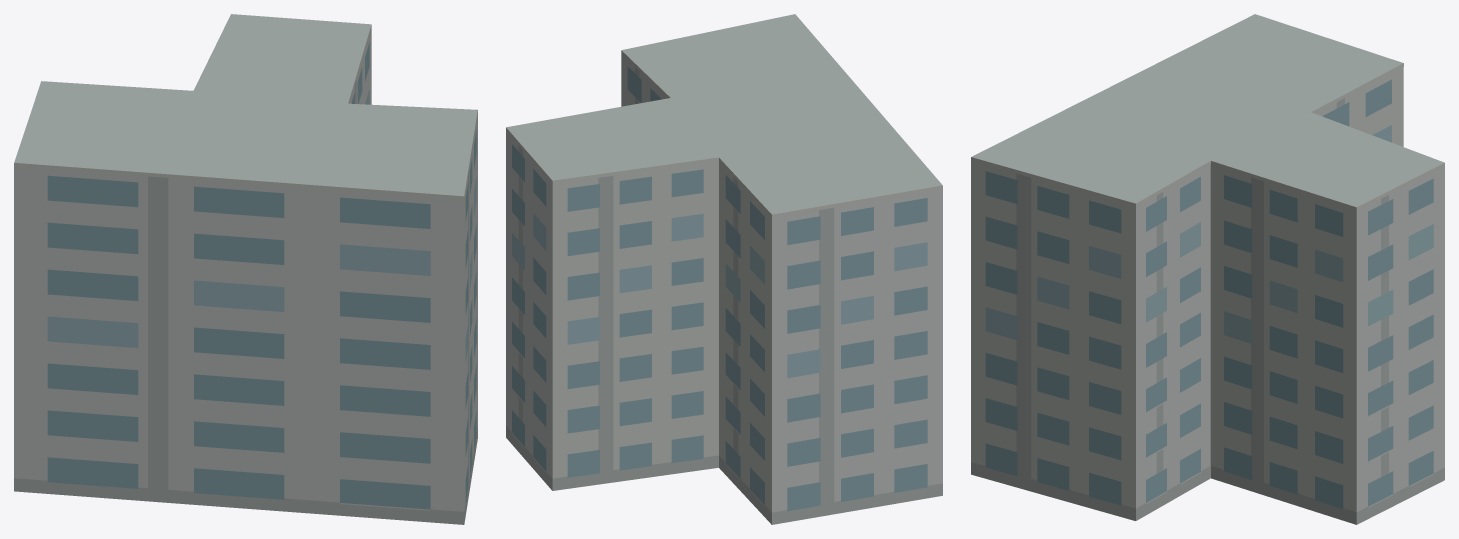
Rendered from residential-68f974e6-088f-4606-acb0-f60996e7e2d6.glb.
The picture shows the model from 3 angles, left to right: view 1: azimuth 30°, elevation 25°; view 2: azimuth 150°, elevation 25°; view 3: azimuth 270°, elevation 25°; orthographic projection. The views are drawn at different scales.
Visible parts, largest first — view 1: residential-68f974e6-088f-4606-acb0-f60996e7e2d6.tmp; view 2: residential-68f974e6-088f-4606-acb0-f60996e7e2d6.tmp; view 3: residential-68f974e6-088f-4606-acb0-f60996e7e2d6.tmp.
Part boxes in pixels (box(x1,y1,x2,y2)): residential-68f974e6-088f-4606-acb0-f60996e7e2d6.tmp: box(14, 14, 477, 524); residential-68f974e6-088f-4606-acb0-f60996e7e2d6.tmp: box(506, 14, 942, 524); residential-68f974e6-088f-4606-acb0-f60996e7e2d6.tmp: box(971, 14, 1444, 524).
Size of the model in its own units: 27.89 by 21.35 by 28.87.
